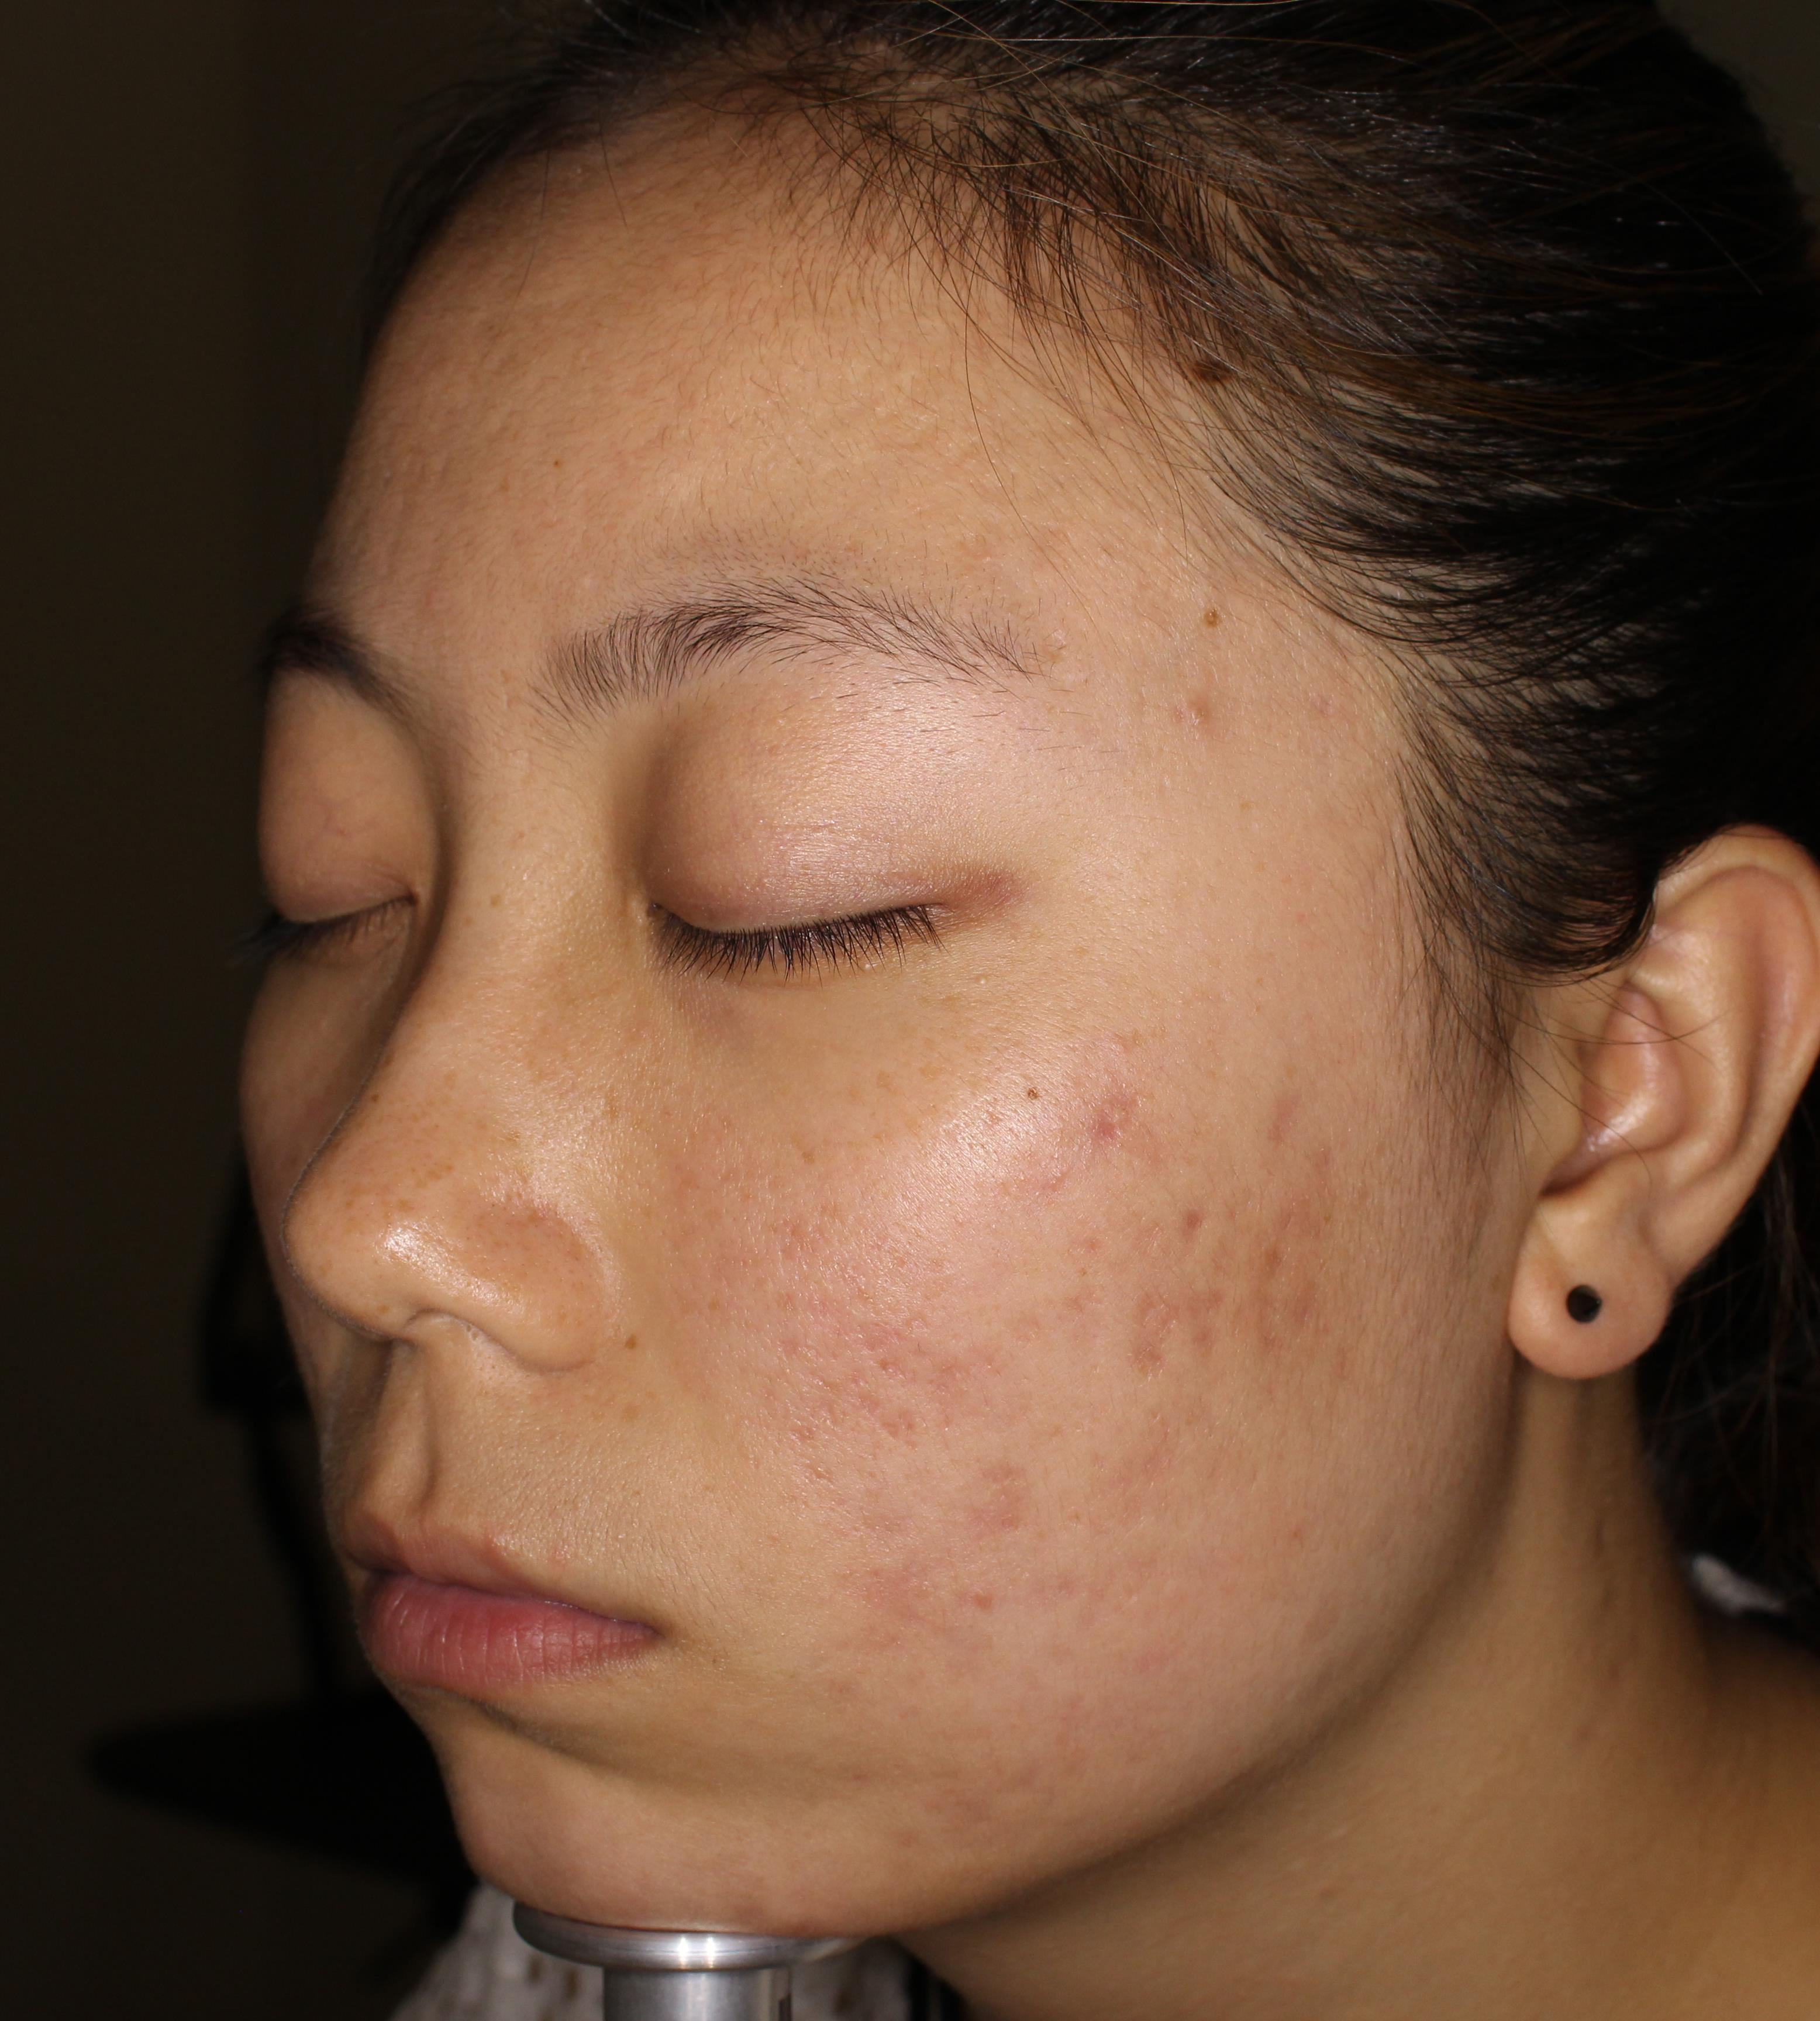fore: (1247, 1245, 1332, 1356), (1233, 1055, 1332, 1141), (1166, 665, 1242, 766), (1077, 1055, 1166, 1133), (1268, 1182, 1360, 1254), (1170, 1185, 1228, 1266), (1179, 1289, 1239, 1356)
